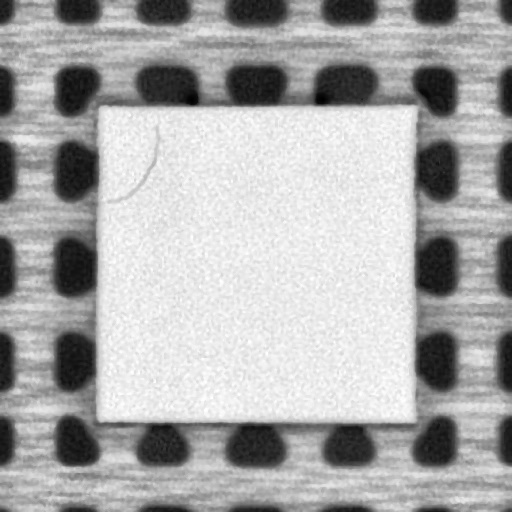DIE_CRACK: (107, 123, 160, 204)
